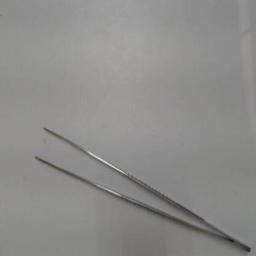DeBakey Dissector: (20, 115, 254, 251)
